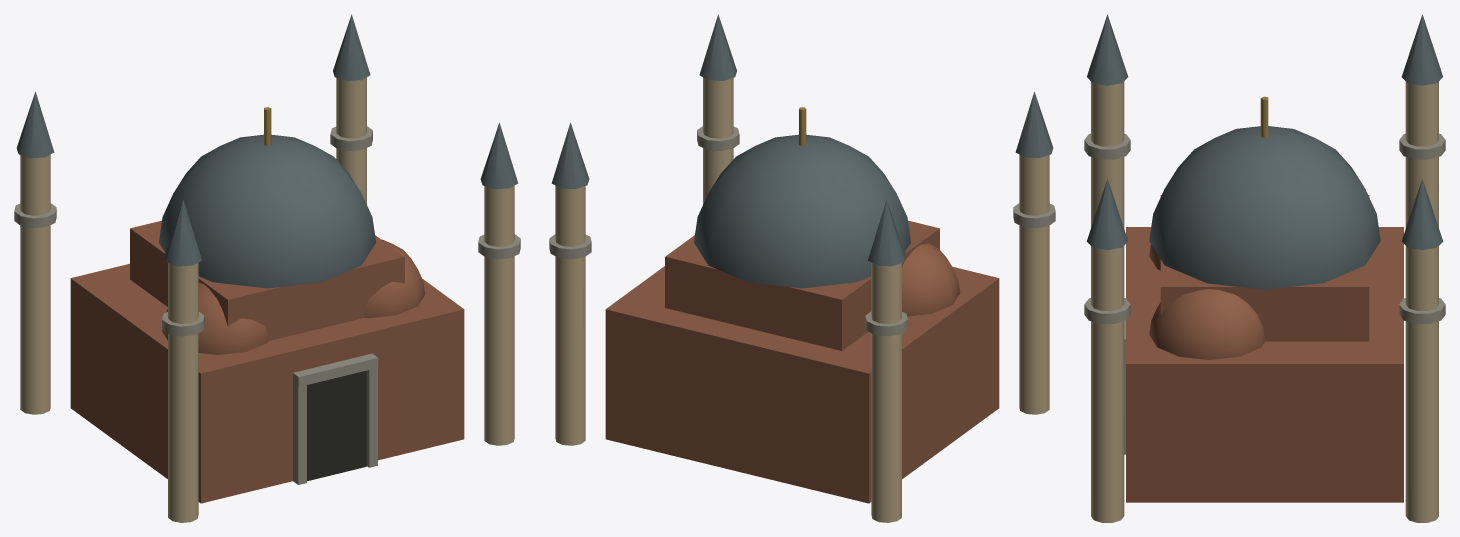
The model's file is custom-wonder-ayasofya.glb.
The picture shows the model from 3 angles, left to right: view 1: azimuth 30°, elevation 25°; view 2: azimuth 150°, elevation 25°; view 3: azimuth 270°, elevation 25°; orthographic projection. The views are drawn at different scales.
Parts seen in each view (by area): view 1: custom-wonder-ayasofya; view 2: custom-wonder-ayasofya; view 3: custom-wonder-ayasofya.
Boxes of the visible parts, box(x1,y1,x2,y2) form: custom-wonder-ayasofya: box(14, 14, 520, 522); custom-wonder-ayasofya: box(549, 14, 1055, 522); custom-wonder-ayasofya: box(1084, 14, 1445, 522).
Bounding box in the file's own units: 1 × 0.8609 × 0.8341.
